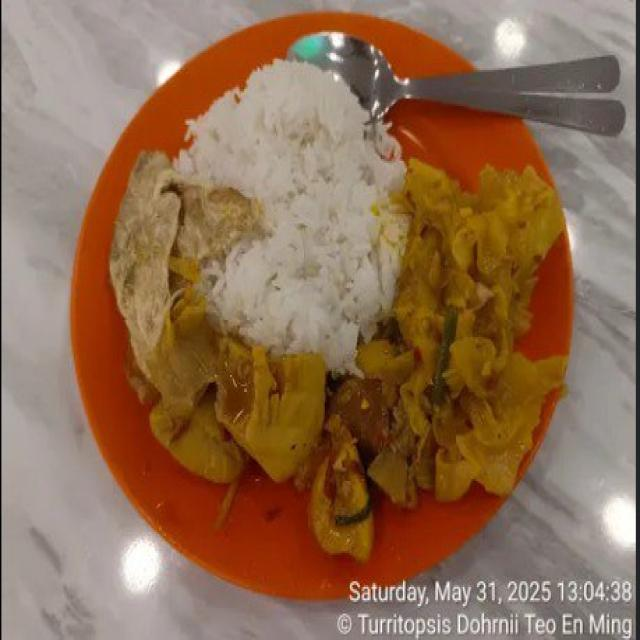Egg: (110, 151, 262, 377)
Non green veg: (151, 159, 565, 559)
Rice: (174, 59, 406, 369)
